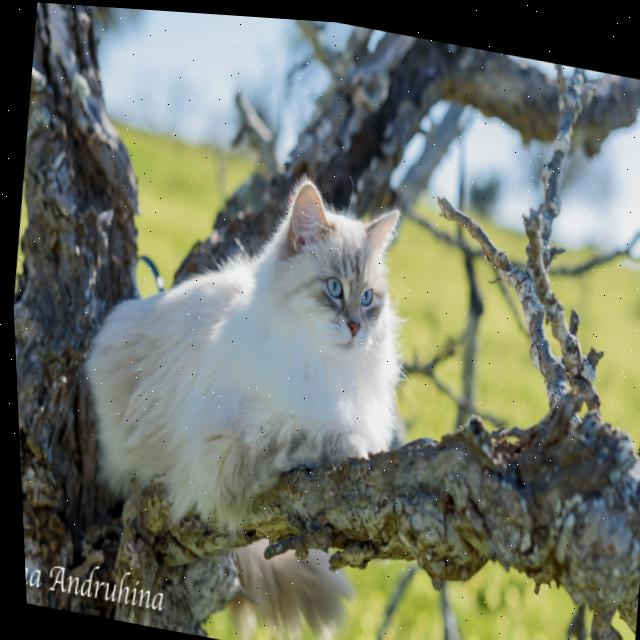Neva Masquerade: (55, 131, 424, 554)
